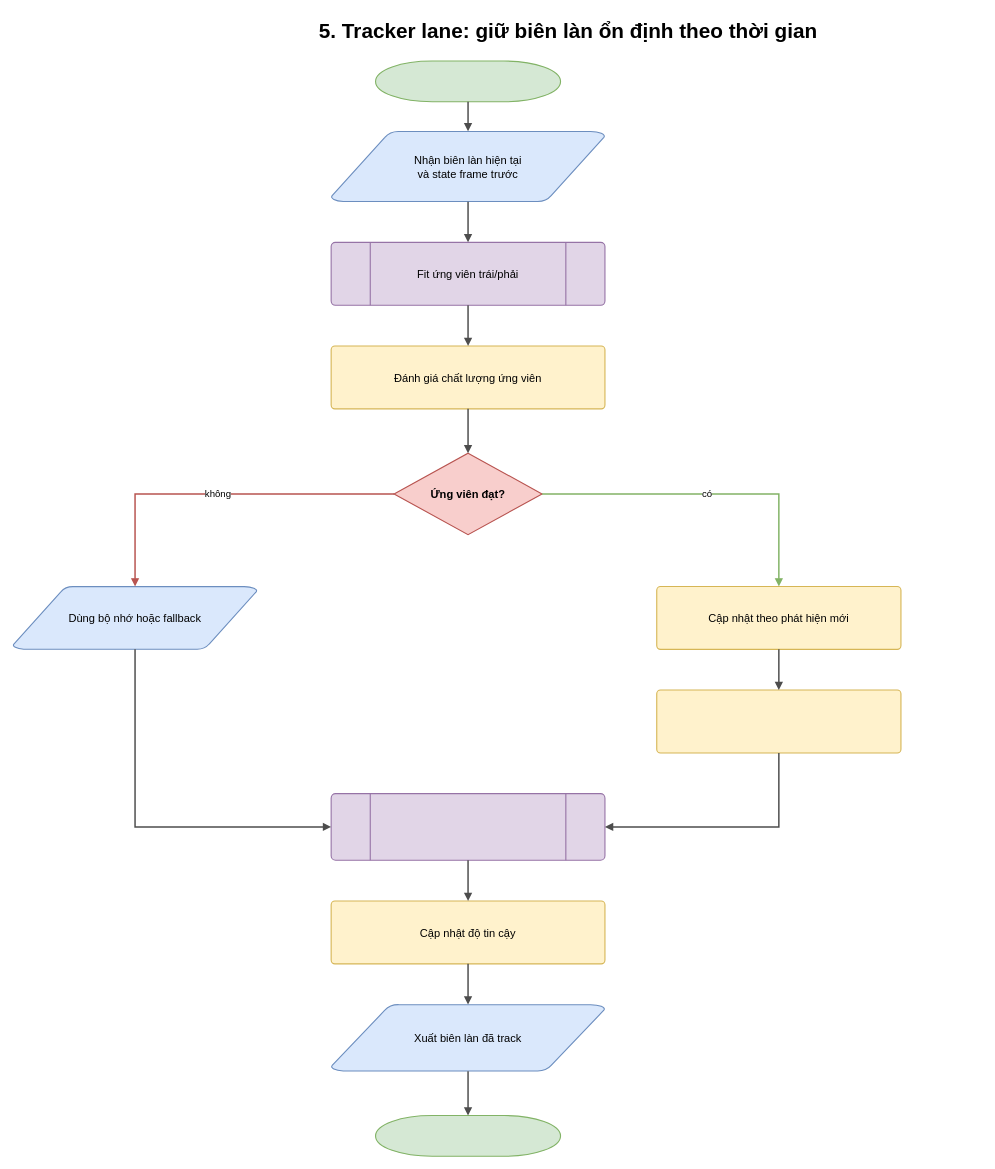
Image size: 995x1169. Some labels were removed from this diagram. Each missing label, with the centre of its shape:
"Bắt đầu cập nhật tracker" goes at point 468,81.
"Cập nhật bộ nhớ bề rộng" goes at point 778,721.
"Lane tracking sẵn sàng" goes at point 468,1135.
"Tạo biên làn ổn định" goes at point 467,826.
